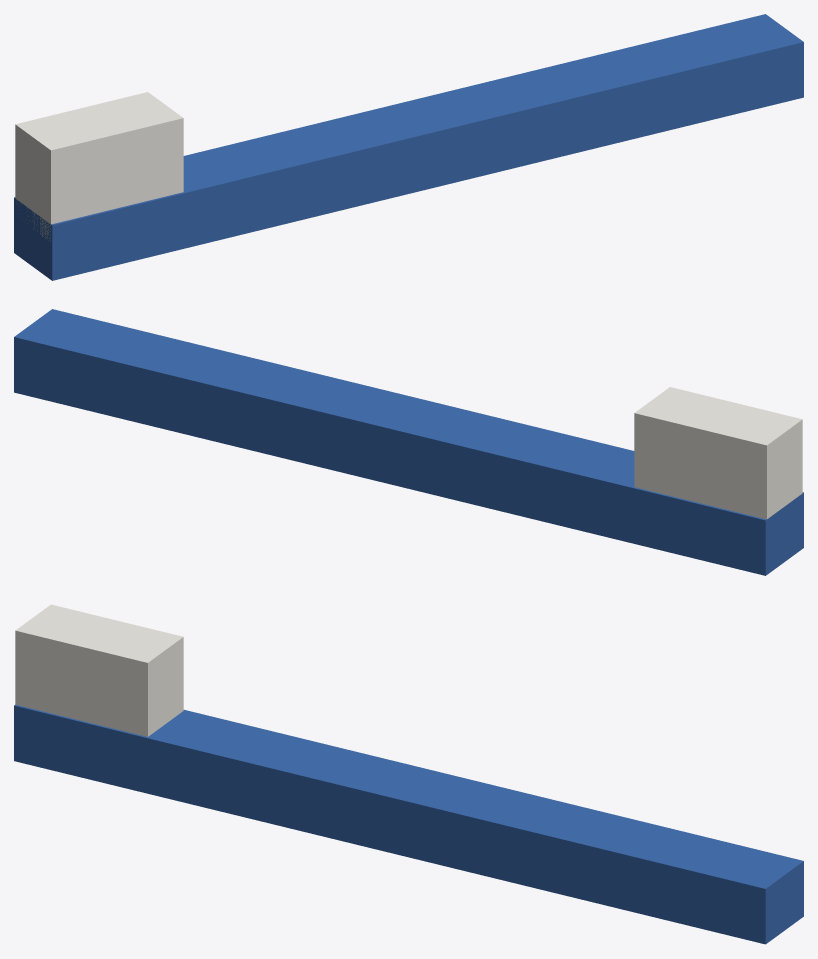
Rendered from toothbrush.fbx.
The picture shows the model from 3 angles, top to bottom: view 1: azimuth 30°, elevation 25°; view 2: azimuth 150°, elevation 25°; view 3: azimuth 330°, elevation 25°; orthographic projection.
Parts seen in each view (by area): view 1: toothbrush; view 2: toothbrush; view 3: toothbrush.
Boxes of the visible parts, box(x1,y1,x2,y2) form: toothbrush: box(14, 14, 803, 280); toothbrush: box(14, 309, 803, 575); toothbrush: box(14, 604, 803, 944).
Size of the model in its own units: 0.68 by 0.112 by 0.06.
